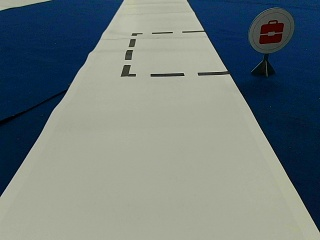company: (249, 7, 294, 52)
